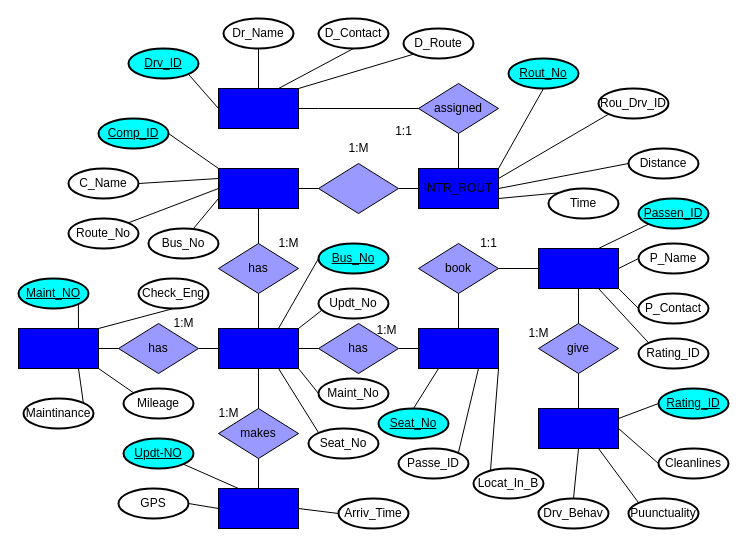
This 746x546 diagram has some shape labels left out. The centre of each missing label's shape, as x and y in pixels:
"BUS_COMP" goes at (258,188).
"BUSSES" goes at (258,348).
"DRIVER" goes at (258,108).
"MAINT_LOG" goes at (58,348).
"PASSENGER" goes at (578,268).
"R_T_UPDT" goes at (258,508).
"RATING" goes at (578,428).
"run" goes at (358,188).
"SEATS" goes at (458,348).
